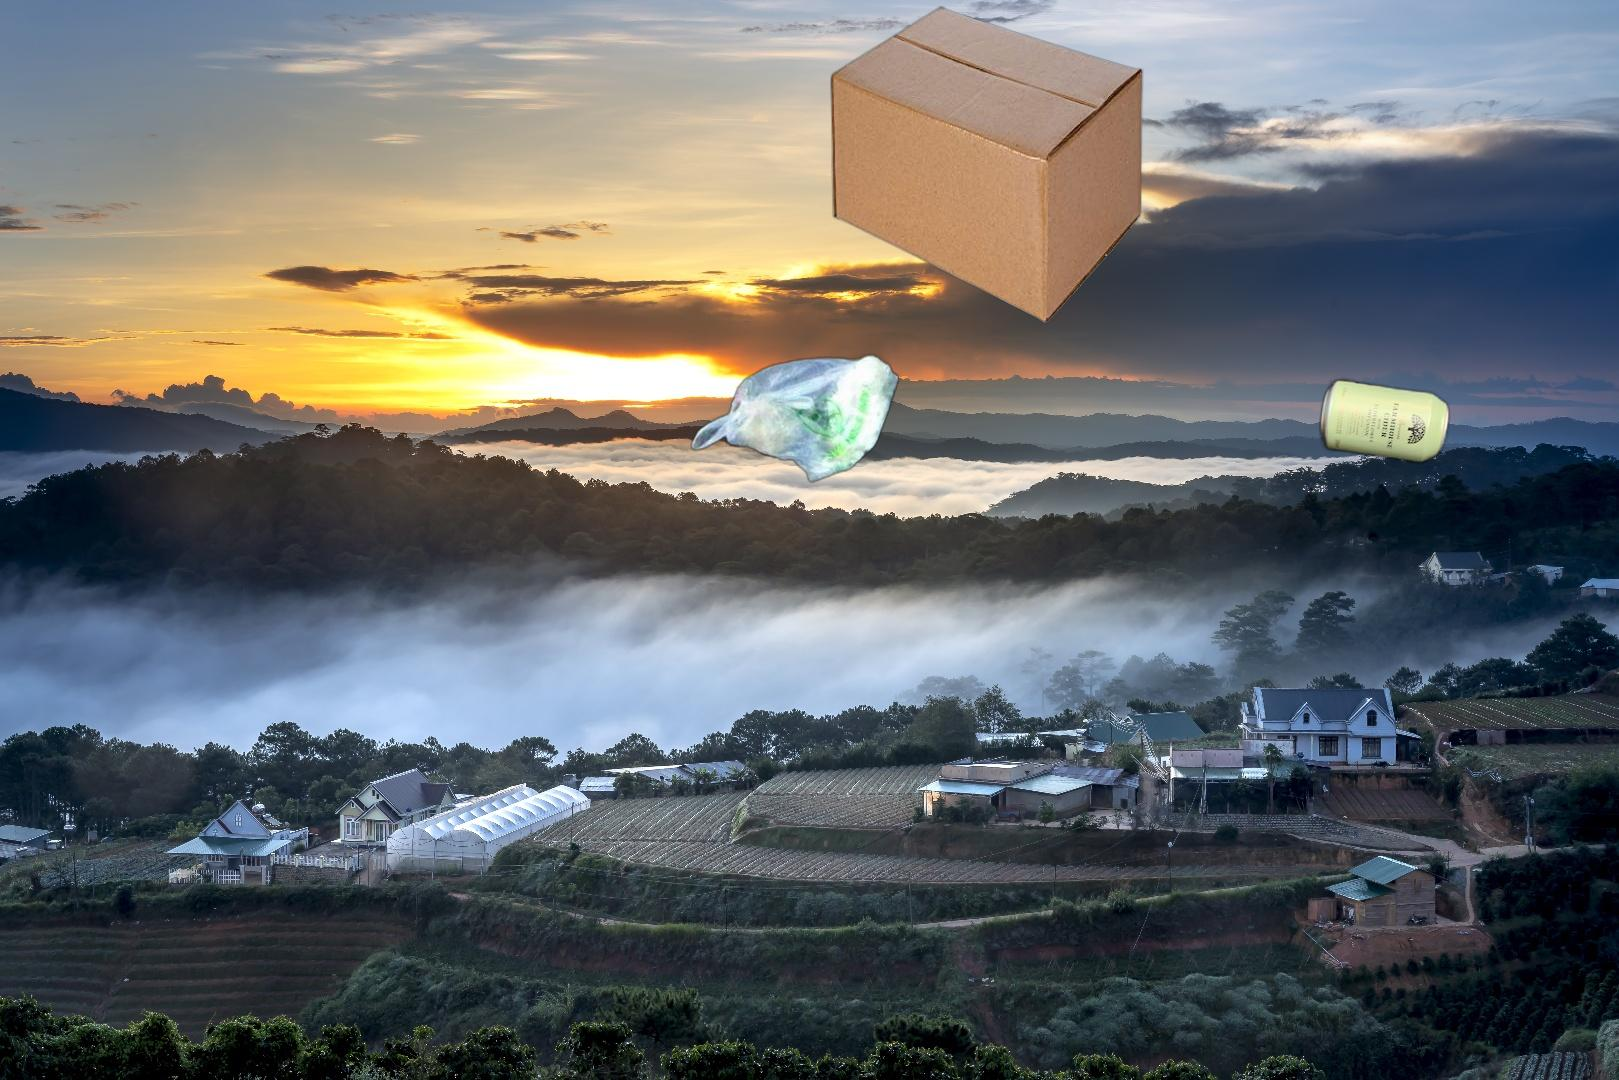biological: (688, 319, 1051, 781)
metal-cans: (1316, 374, 1470, 763)
plastic-bottles: (737, 1067, 1089, 1080)
trashbox-cardboard: (829, 5, 1144, 324)
